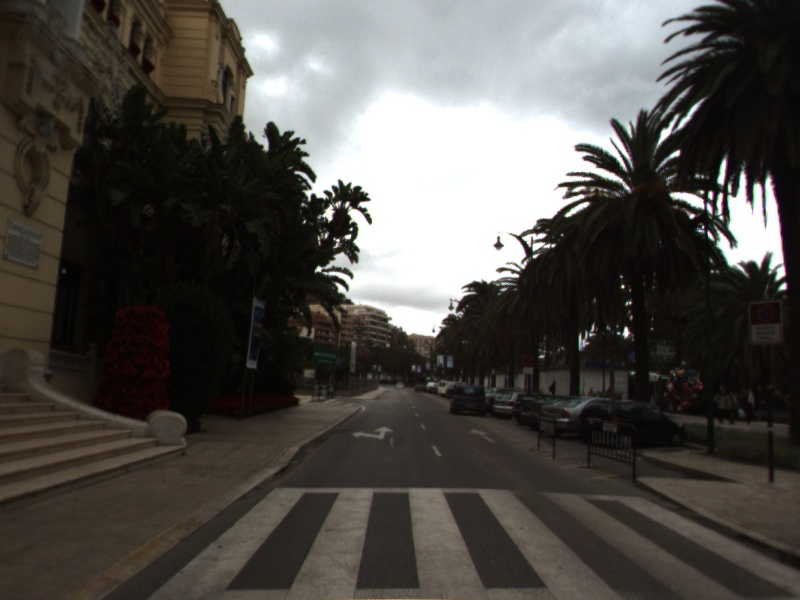STRAIGHT: (467, 426, 498, 445)
STRAIGHT_LEFT: (349, 424, 396, 441)
